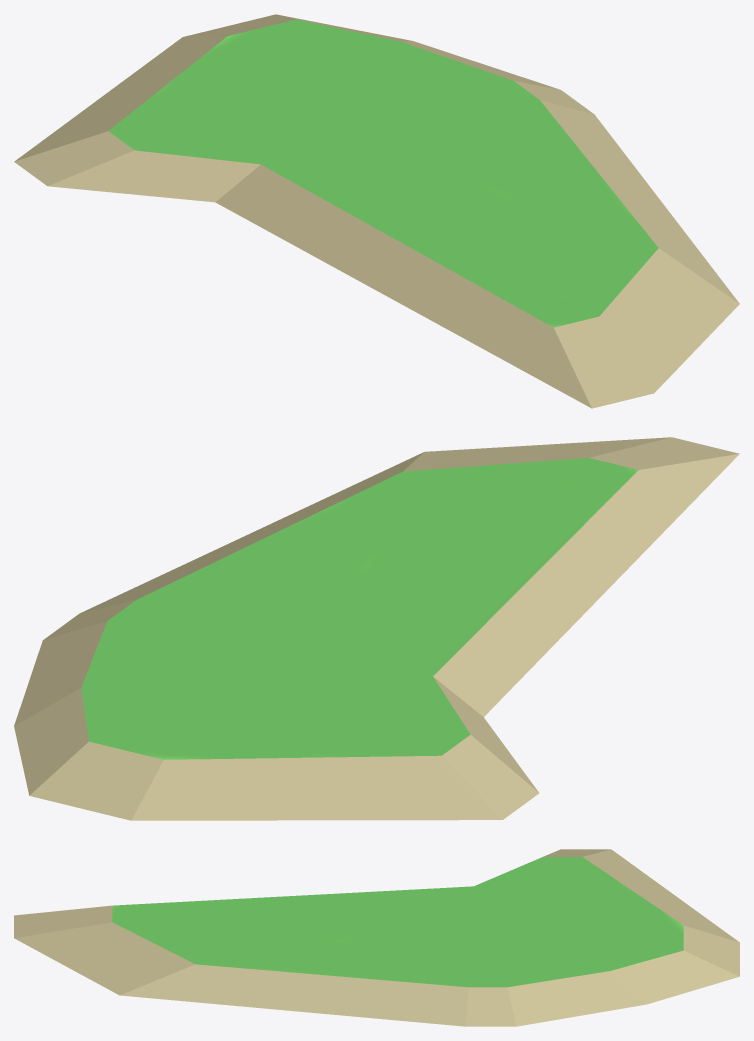
File: island.gltf
The picture shows the model from 3 angles, top to bottom: view 1: azimuth 30°, elevation 25°; view 2: azimuth 150°, elevation 25°; view 3: azimuth 270°, elevation 25°; orthographic projection. The views are drawn at different scales.
Parts seen in each view (by area): view 1: Land; view 2: Land; view 3: Land.
Part boxes in pixels (x1,y1,x2,y2): Land: (14,14,739,408); Land: (14,437,739,820); Land: (14,849,739,1026).
Bounding box in the file's own units: 10.6 × 0.5535 × 18.33.
1 material, 1 textured.
